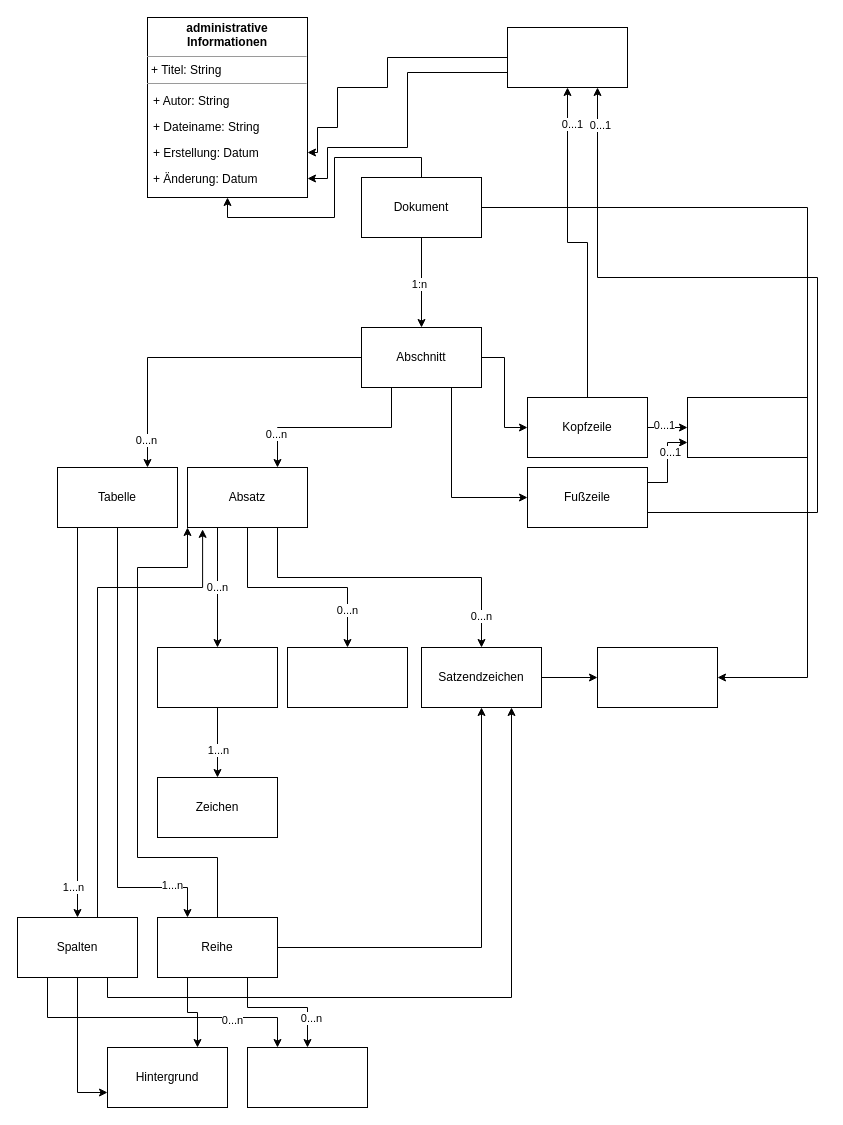
Some shapes in this 843 by 1125 pixel diagram are drawn without their labels. The shapes that lost their labels are listed below. From the top down, each one's box as (x1, y1, x2, y2) in pixels, then its label:
(506, 26, 628, 88): Datum
(686, 396, 808, 458): Seitenzahlen
(156, 646, 278, 708): Texte
(286, 646, 408, 708): Bitmap Grafiken
(596, 646, 718, 708): Formatvorlage
(246, 1046, 368, 1108): Berandungslinien
